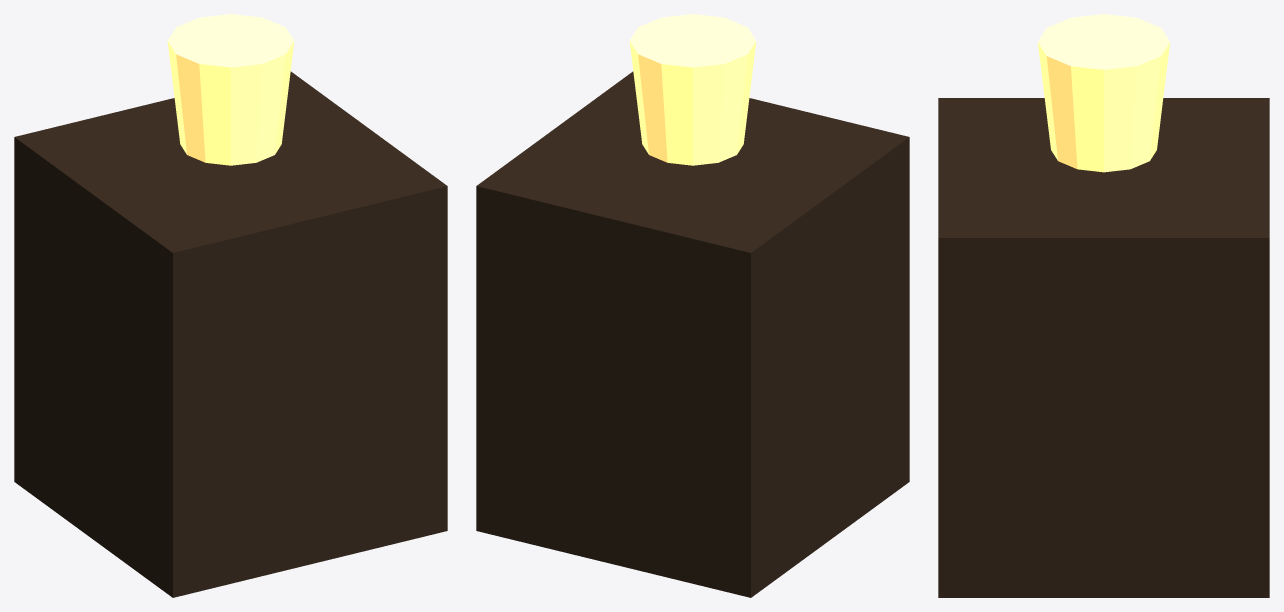
Rendered from PRP_Nightstand_A.glb.
3 renders of one model, left to right at view 1: azimuth 30°, elevation 25°; view 2: azimuth 150°, elevation 25°; view 3: azimuth 270°, elevation 25°, orthographic. The views are drawn at different scales.
Parts seen in each view (by area): view 1: PRP_Nightstand_A_Body, shade; view 2: PRP_Nightstand_A_Body, shade; view 3: PRP_Nightstand_A_Body, shade.
Boxes of the visible parts, box(x1,y1,x2,y2) form: PRP_Nightstand_A_Body: box(14, 71, 447, 597); shade: box(167, 14, 294, 165); PRP_Nightstand_A_Body: box(476, 71, 909, 597); shade: box(629, 14, 756, 165); PRP_Nightstand_A_Body: box(938, 98, 1269, 597); shade: box(1038, 14, 1169, 172).
Bounding box in the file's own units: 0.5 × 0.81 × 0.5.
